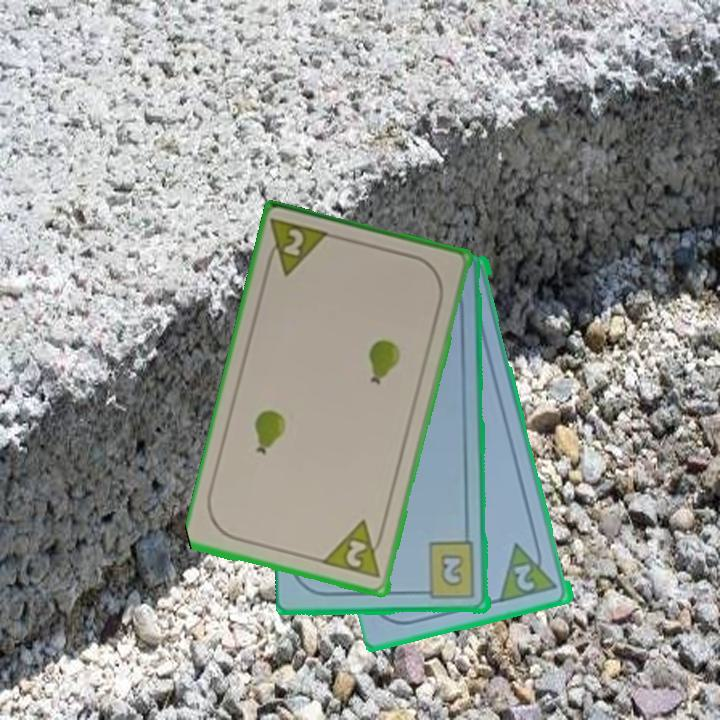2b: (417, 540, 478, 602)
2p: (261, 216, 334, 280), (321, 517, 389, 582), (511, 561, 538, 595)
